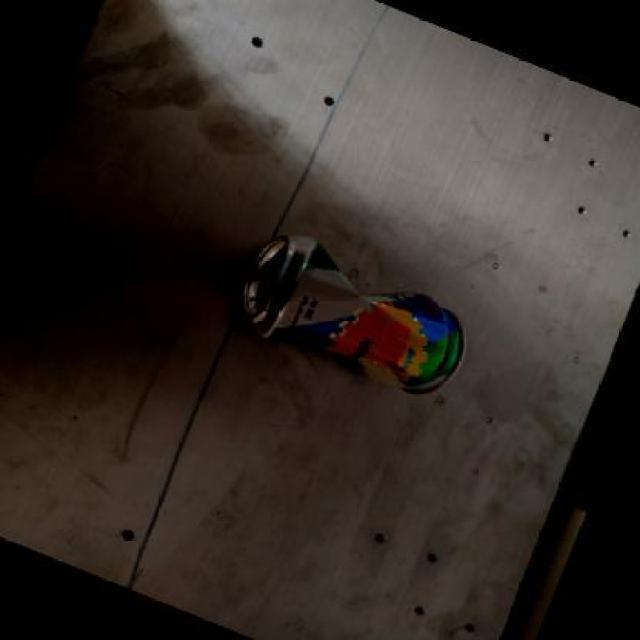metal: (224, 228, 476, 404)
